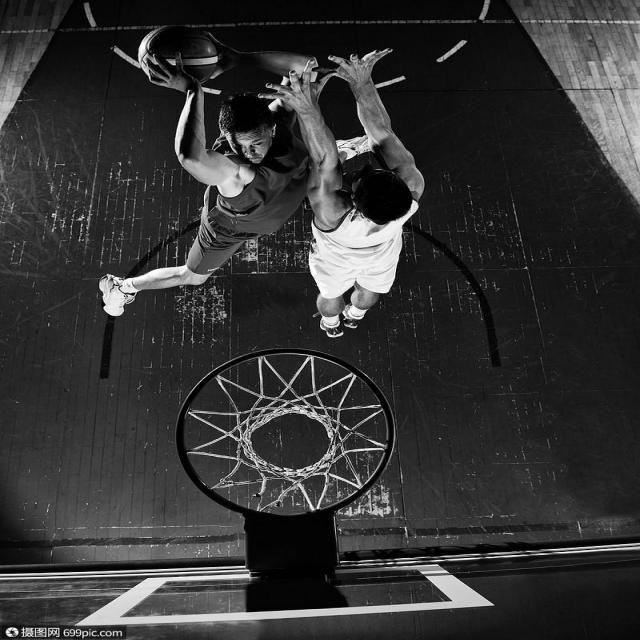rim: (142, 27, 218, 80)
